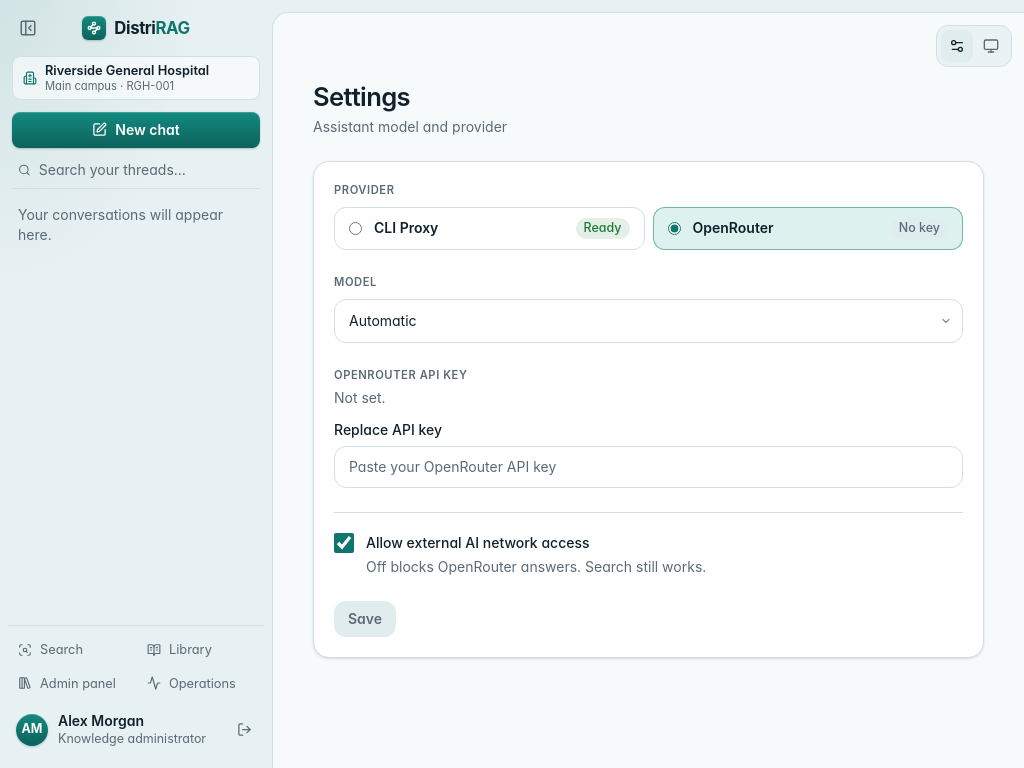
Test: network can be switched off without supplying an API key
Check: the button "Save" is disabled, box [334,601,396,637]
Click the switch labelled "Allow external AI network access".
click(344, 543)  # box [334,533,354,553]
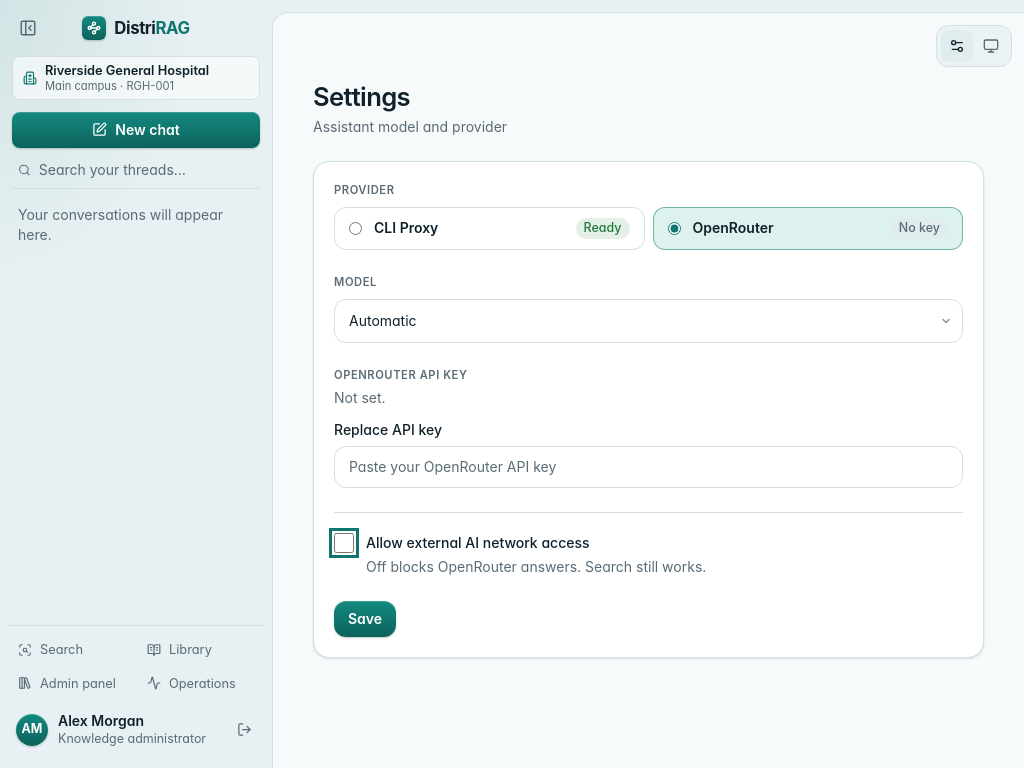
Check: the dropdown labelled "Model" is disabled, box [334,299,963,343]
Click the button "Save".
click(365, 619)  # box [334,601,396,637]
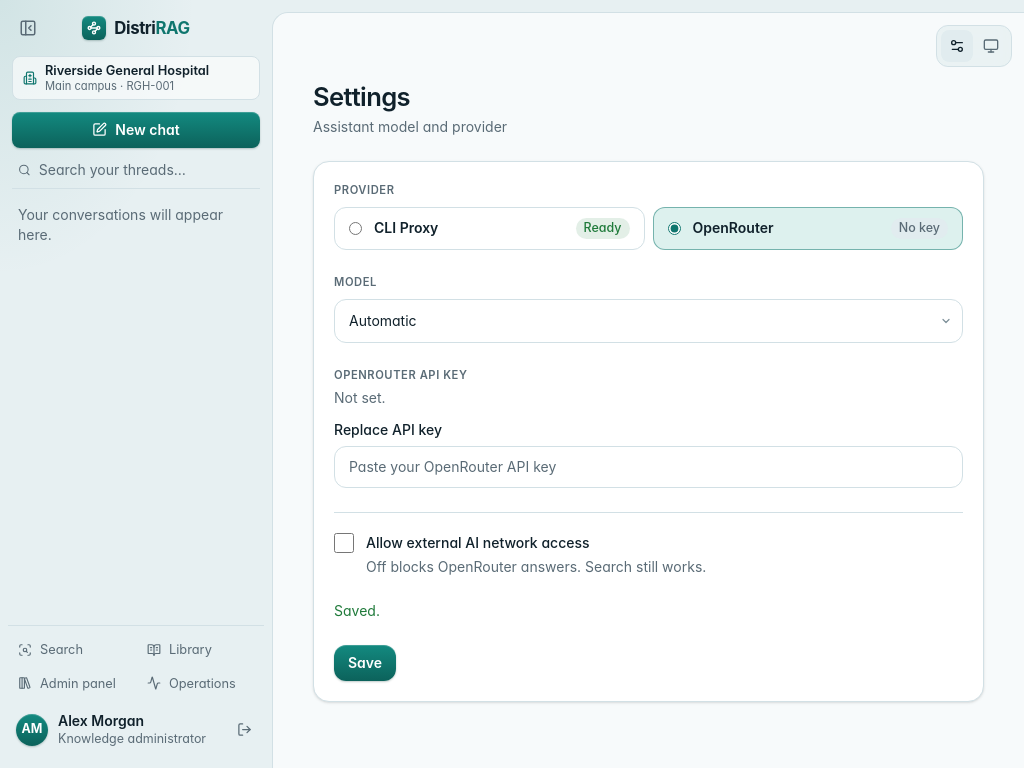
Check: the text "Saved." is shown, box [334,602,380,619]
